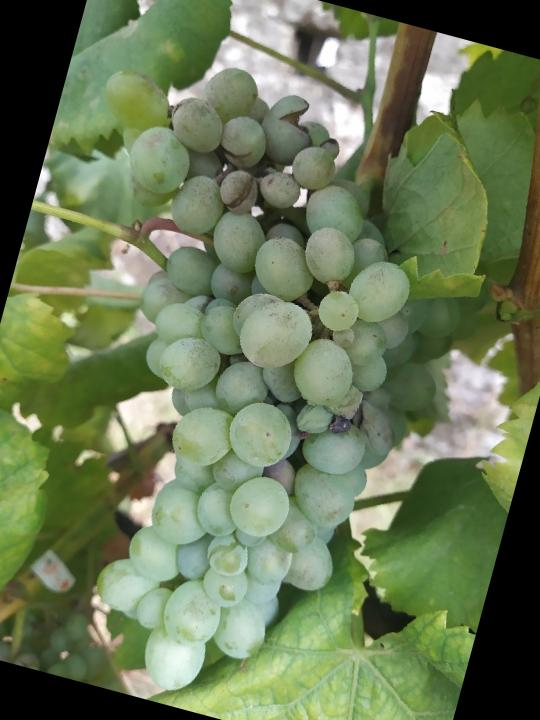grape: (0, 33, 508, 720)
